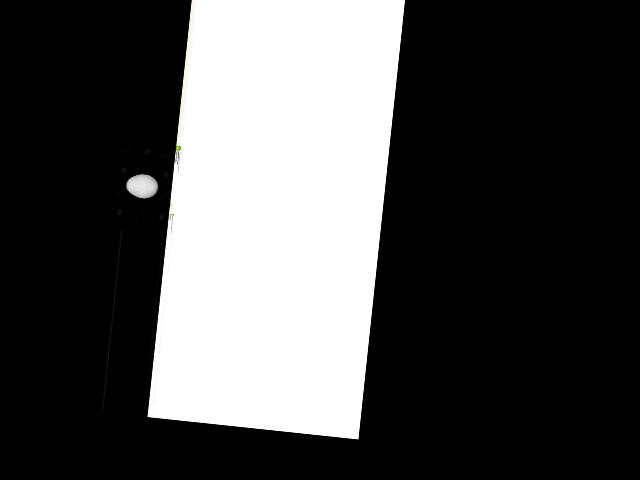egg: (125, 173, 159, 200)
